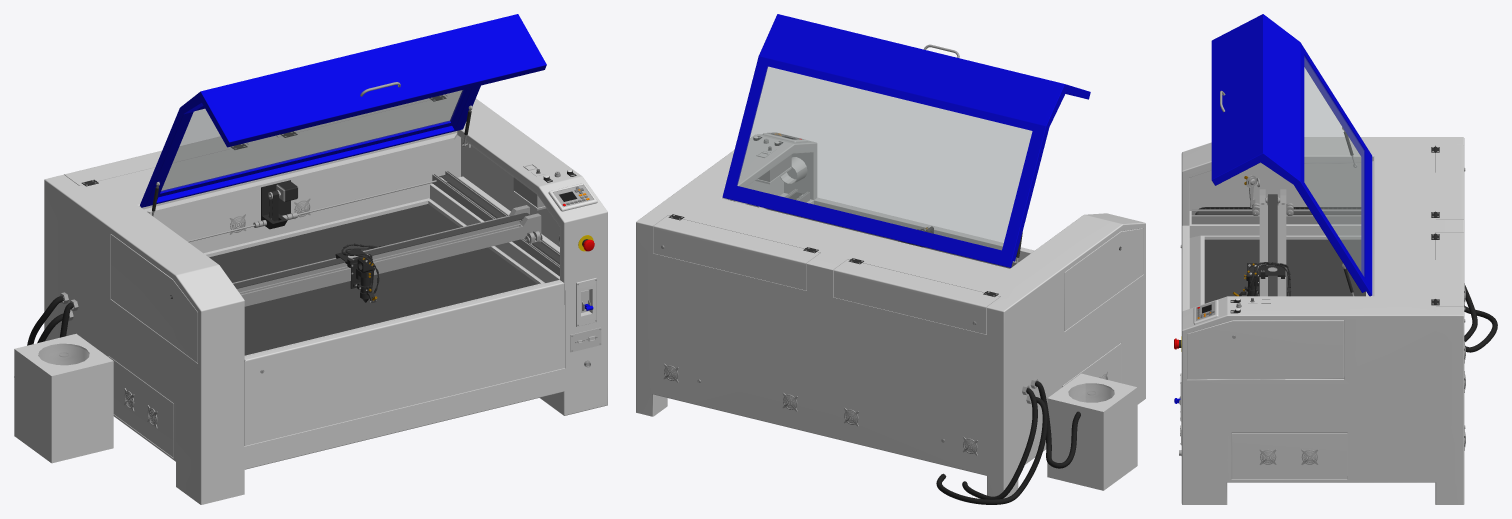
File: Laser_unity (1).fbx
3 views of the same model, side by side, from view 1: azimuth 30°, elevation 25°; view 2: azimuth 150°, elevation 25°; view 3: azimuth 270°, elevation 25° (orthographic). The views are drawn at different scales.
Visible parts, largest first — view 1: Laser_escalada1:laser_modificada_3:polySurface492, Laser_escalada1:laser_modificada_3:polySurface277, Laser_escalada1:laser_modificada_3:polySurface478, Laser_escalada1:laser_modificada_3:polySurface115; view 2: Laser_escalada1:laser_modificada_3:polySurface492, Laser_escalada1:laser_modificada_3:polySurface277; view 3: Laser_escalada1:laser_modificada_3:polySurface492, Laser_escalada1:laser_modificada_3:polySurface277, Laser_escalada1:laser_modificada_3:polySurface478, Laser_escalada1:laser_modificada_3:polySurface115.
Part boxes in pixels (left/top/right/bottom): Laser_escalada1:laser_modificada_3:polySurface492: left=14, top=90, right=607, bottom=504; Laser_escalada1:laser_modificada_3:polySurface277: left=140, top=14, right=546, bottom=207; Laser_escalada1:laser_modificada_3:polySurface478: left=232, top=205, right=542, bottom=306; Laser_escalada1:laser_modificada_3:polySurface115: left=335, top=243, right=384, bottom=302; Laser_escalada1:laser_modificada_3:polySurface492: left=636, top=132, right=1145, bottom=504; Laser_escalada1:laser_modificada_3:polySurface277: left=722, top=14, right=1090, bottom=267; Laser_escalada1:laser_modificada_3:polySurface492: left=1179, top=137, right=1497, bottom=504; Laser_escalada1:laser_modificada_3:polySurface277: left=1211, top=14, right=1372, bottom=296; Laser_escalada1:laser_modificada_3:polySurface478: left=1244, top=175, right=1293, bottom=296; Laser_escalada1:laser_modificada_3:polySurface115: left=1232, top=262, right=1290, bottom=296.
Size of the model in its own units: 3.23 by 2.38 by 2.1.
